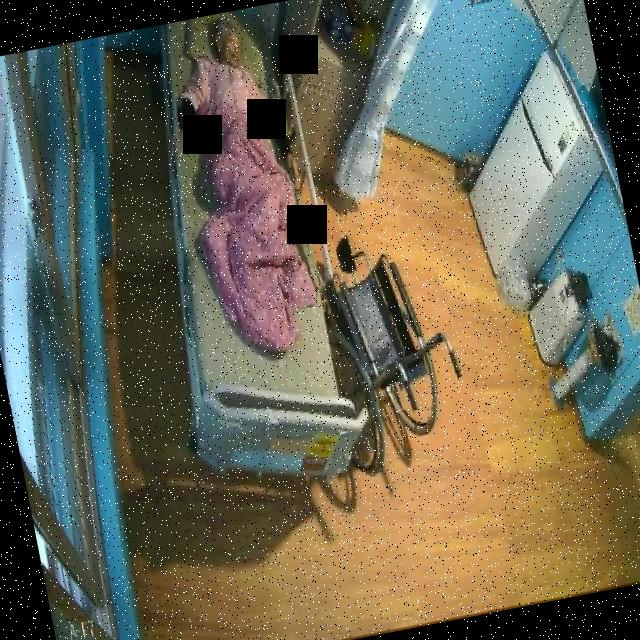bed: (120, 2, 364, 494)
lie: (157, 6, 330, 368)
patient: (159, 6, 298, 174)
